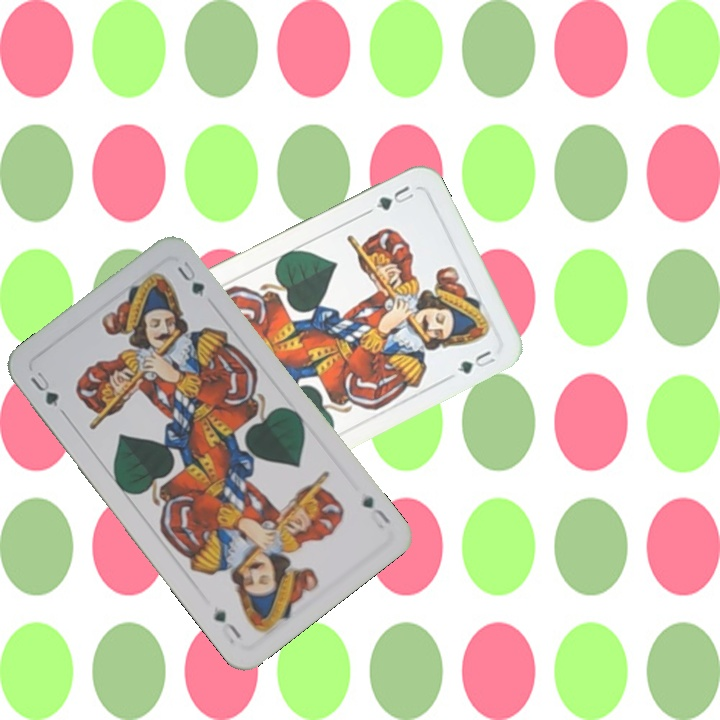GU: (26, 367, 62, 410), (371, 181, 417, 213), (358, 492, 394, 532)
